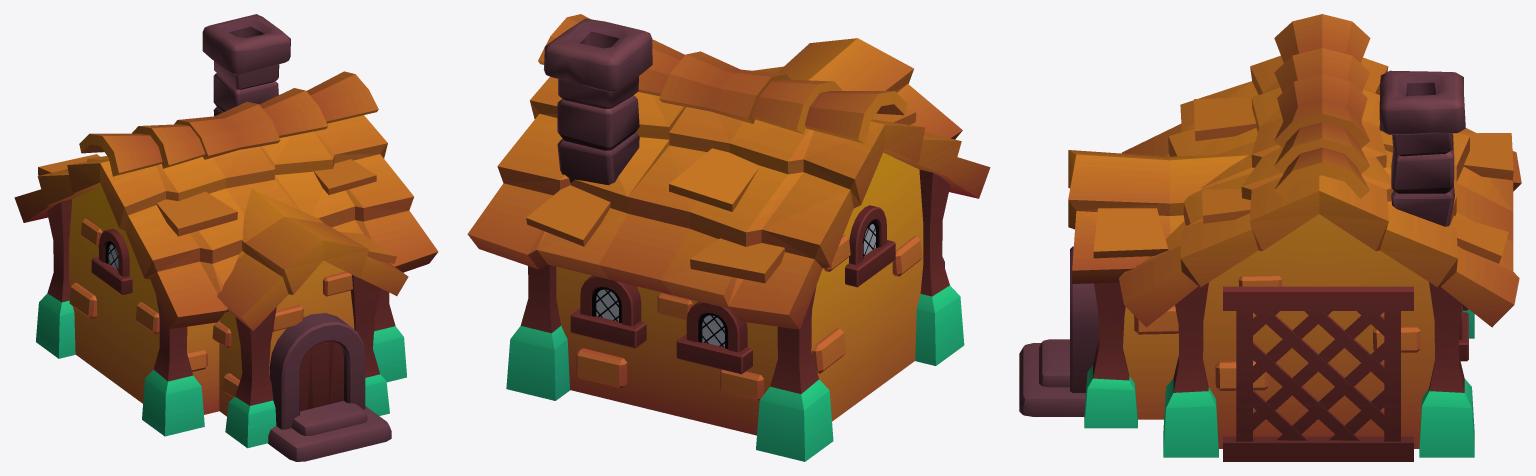
File: house_1.glb
The picture shows the model from 3 angles, left to right: view 1: azimuth 30°, elevation 25°; view 2: azimuth 150°, elevation 25°; view 3: azimuth 270°, elevation 25°; orthographic projection. The views are drawn at different scales.
Visible parts, largest first — view 1: house_1; view 2: house_1; view 3: house_1.
Boxes of the visible parts, x1=… form: house_1: x1=14, y1=14, x2=438, y2=461; house_1: x1=467, y1=14, x2=990, y2=461; house_1: x1=1019, y1=14, x2=1521, y2=461.
Size of the model in its own units: 2.05 by 2.09 by 2.77.
Materials: 1 (1 with a texture image).
